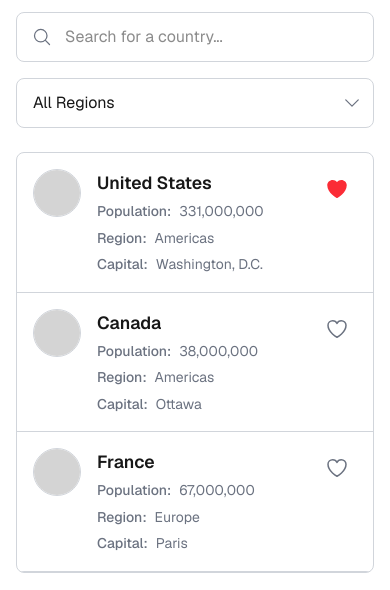
Scenario: CountryListClient › should reset region filter to show all countries
The width and height of the screenshot is (390, 590).
// Filter by Europe first
Step 1. Select "Europe" in the dropdown → (195, 103), box [16,78,374,128]
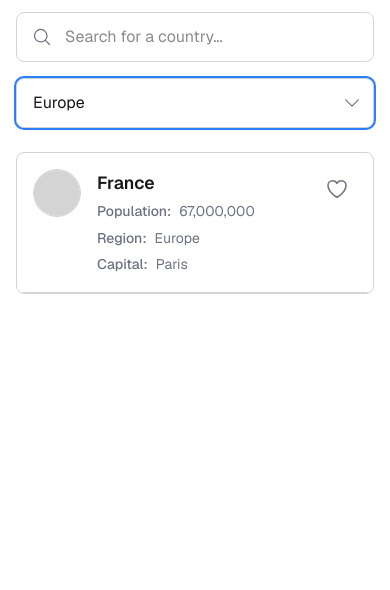
// Reset to all regions
Step 2. Select "All Regions" in the dropdown → (195, 103), box [16,78,374,128]
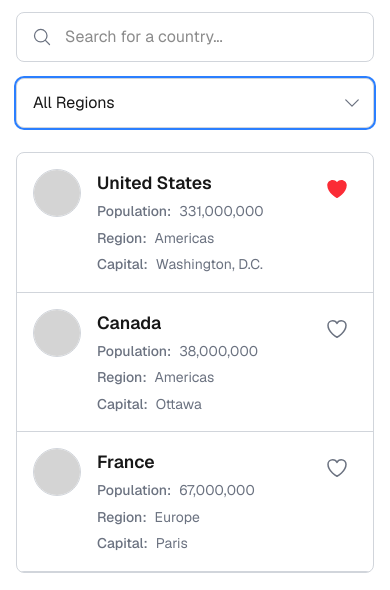
Check: the heading "France" is shown, box [97,450,155,473]
Check: the heading "United States" is shown, box [97,171,212,194]
Check: the heading "Canada" is shown, box [97,310,161,334]
